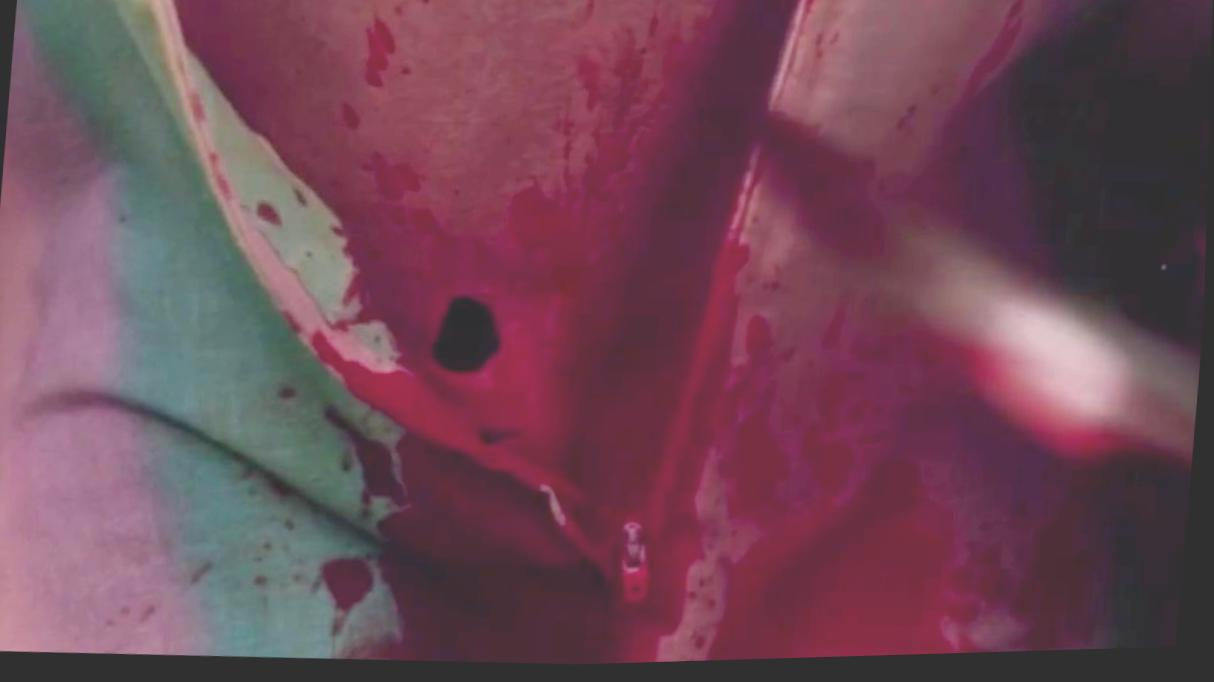Fire: (136, 0, 1203, 668)
